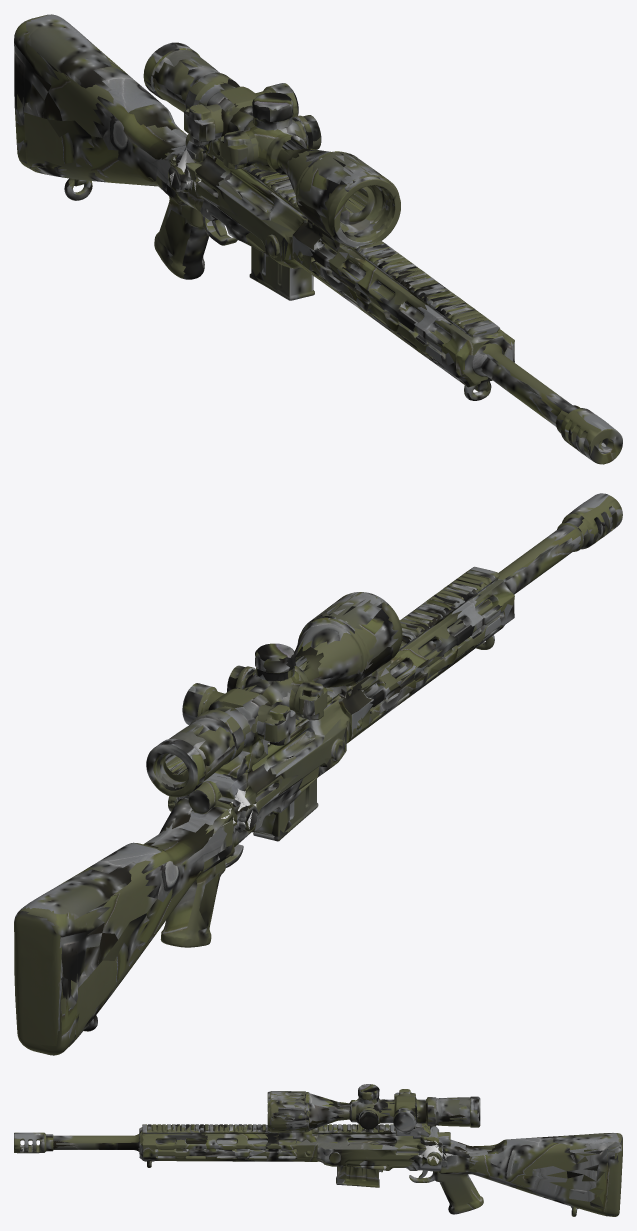
The picture shows the model from 3 angles, top to bottom: view 1: azimuth 30°, elevation 25°; view 2: azimuth 150°, elevation 25°; view 3: azimuth 270°, elevation 25°; orthographic projection. The views are drawn at different scales.
Visible parts, largest first — view 1: Body, Magazine, ChargingHandle; view 2: Body, Magazine, ChargingHandle; view 3: Body, Magazine, ChargingHandle.
Boxes of the visible parts, bbox=[...] form: Body: bbox=[14, 14, 622, 464]; Magazine: bbox=[229, 228, 314, 300]; ChargingHandle: bbox=[168, 147, 201, 189]; Body: bbox=[14, 493, 622, 1055]; Magazine: bbox=[253, 774, 321, 841]; ChargingHandle: bbox=[168, 781, 257, 827]; Body: bbox=[14, 1084, 622, 1216]; Magazine: bbox=[326, 1165, 385, 1187]; ChargingHandle: bbox=[416, 1141, 451, 1162].
Bounding box in the file's own units: 0.1685 × 0.3942 × 1.69.
